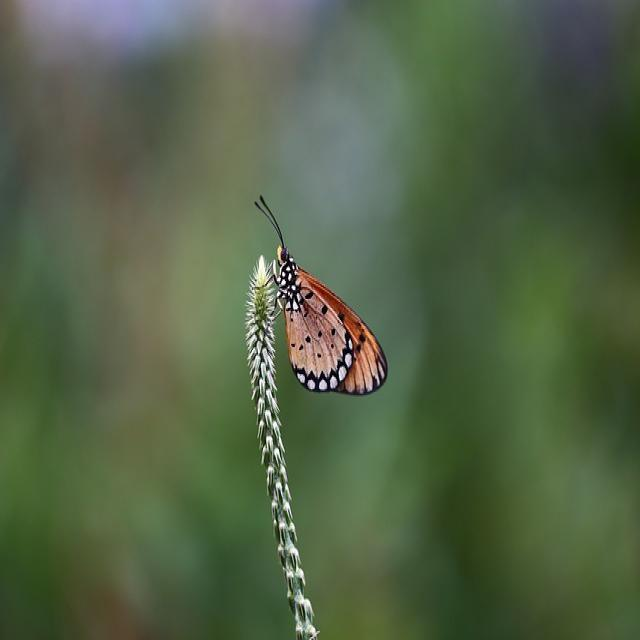butterfly: (270, 245, 388, 397)
